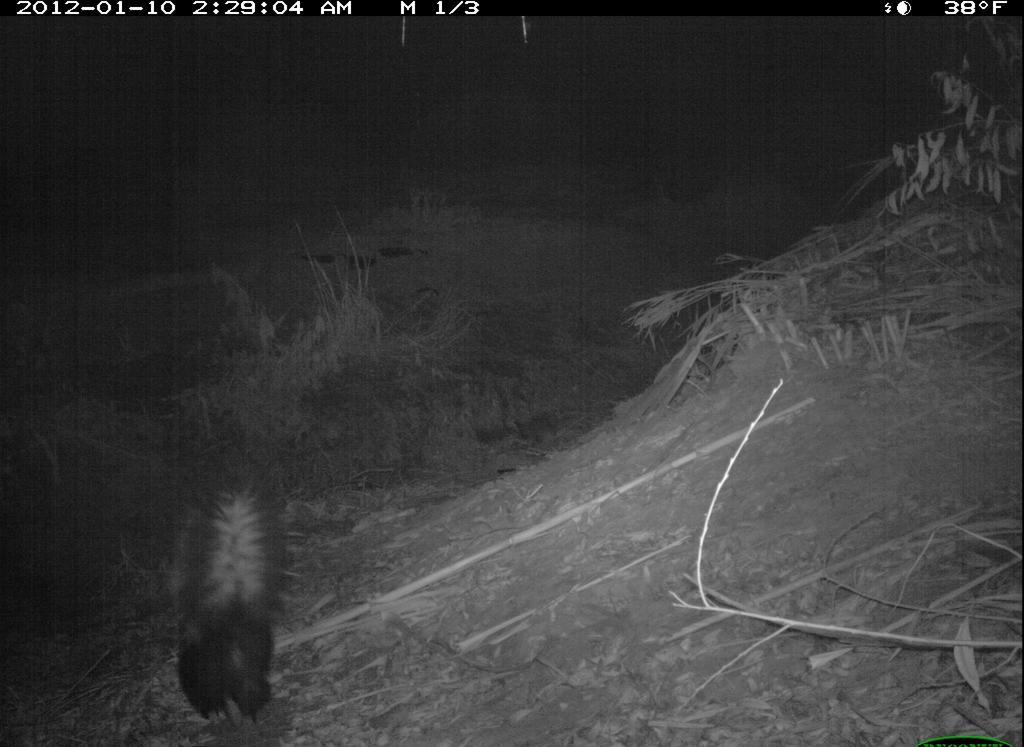skunk: (169, 454, 317, 737)
